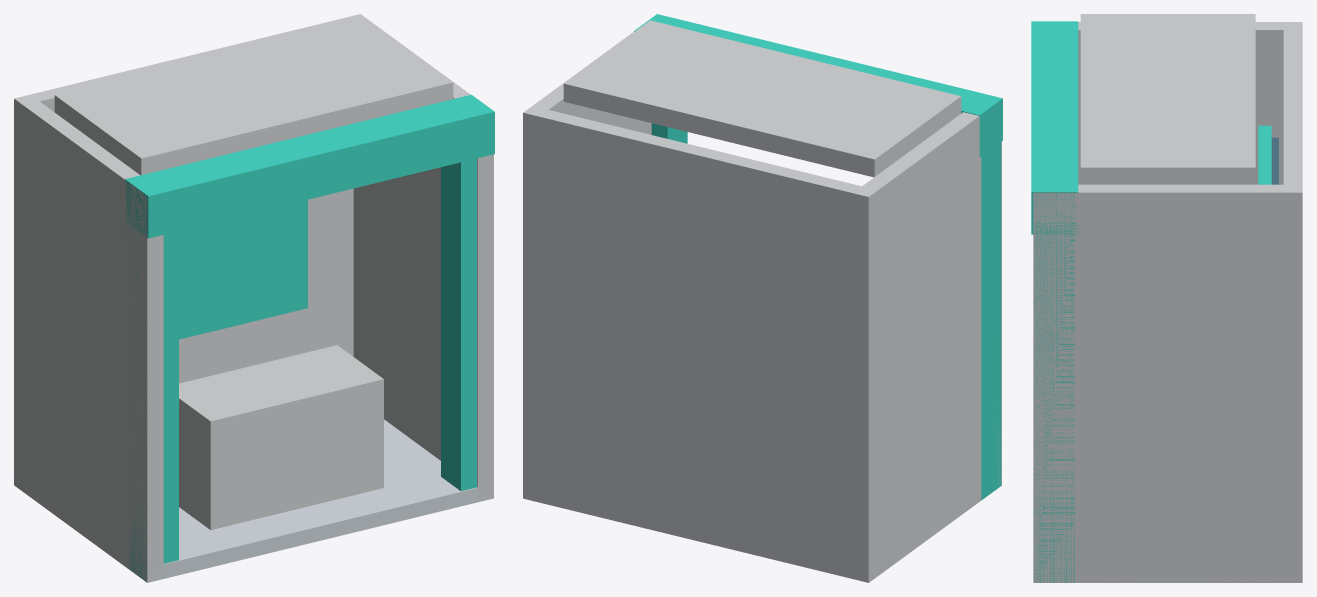
3 renders of one model, left to right at view 1: azimuth 30°, elevation 25°; view 2: azimuth 150°, elevation 25°; view 3: azimuth 270°, elevation 25°, orthographic.
Parts seen in each view (by area): view 1: Exhibition Booth Concept; view 2: Exhibition Booth Concept; view 3: Exhibition Booth Concept.
Boxes of the visible parts, x1,y1,x2,y2 form: Exhibition Booth Concept: (14,14,494,582); Exhibition Booth Concept: (523,14,1002,582); Exhibition Booth Concept: (1031,14,1302,582).
Bounding box in the file's own units: 3 × 3.34 × 2.01.
